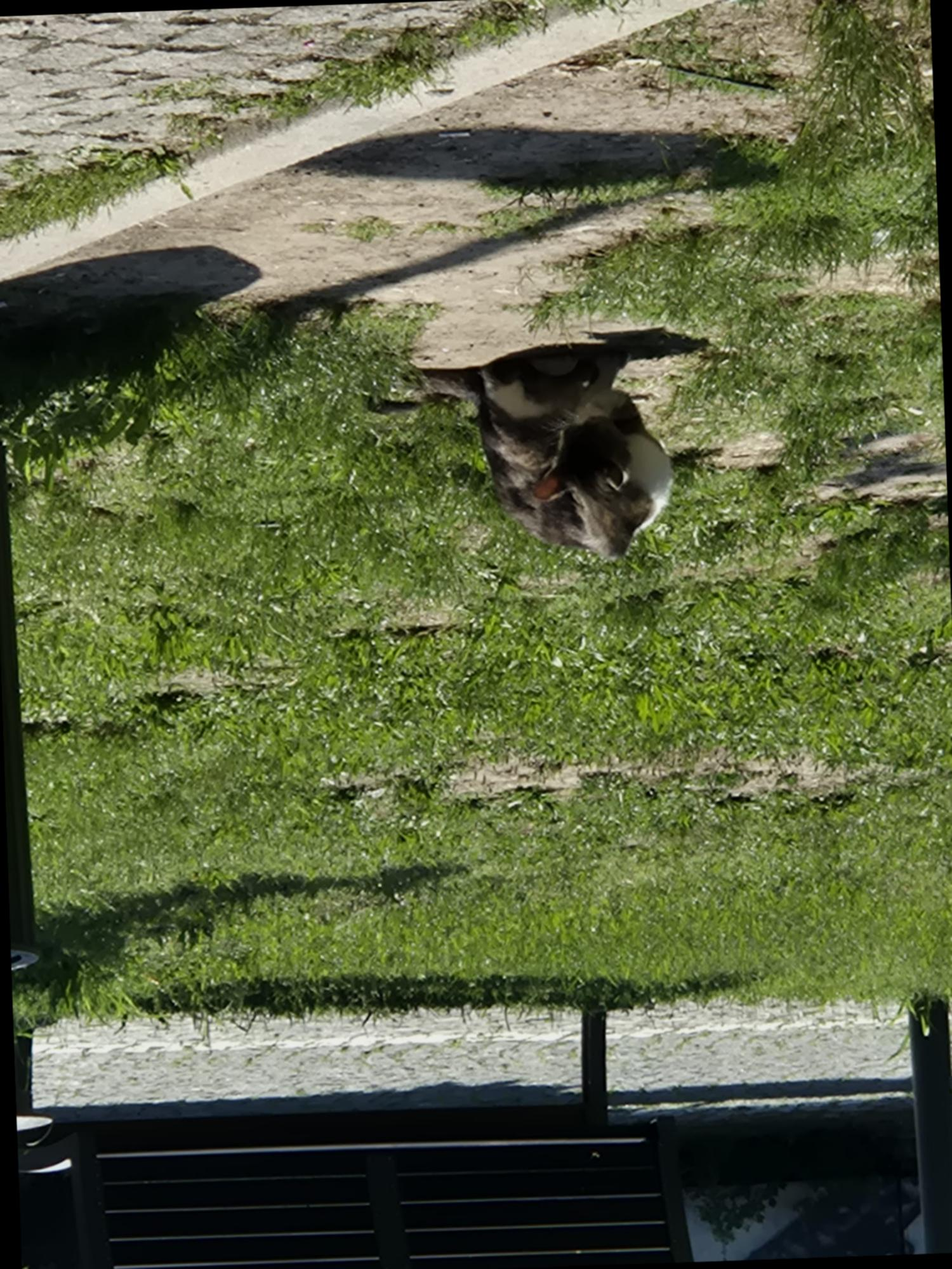macka: (365, 346, 679, 573)
